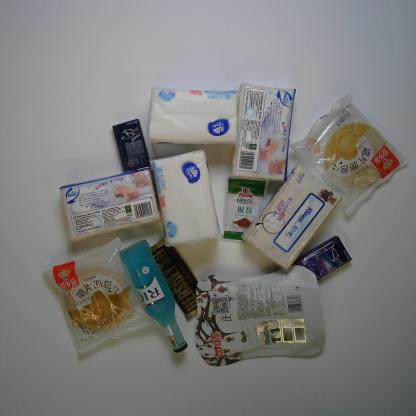Alcohol: (117, 237, 190, 354)
Chocolate: (145, 233, 201, 324)
Dessert: (288, 89, 411, 221), (38, 235, 158, 356)
Dried Fruit: (192, 262, 328, 369)
Gum: (290, 232, 356, 284), (110, 115, 152, 176)
Seasoner: (217, 171, 272, 245)
Tissue: (238, 160, 345, 274), (56, 165, 165, 245), (146, 147, 222, 250), (227, 80, 298, 185), (145, 84, 241, 148)
